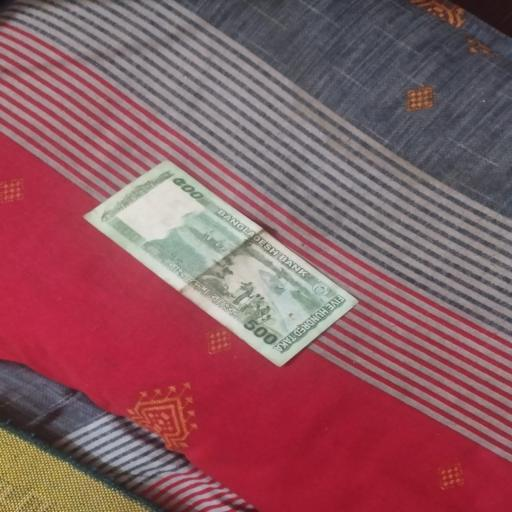500taka: (85, 157, 361, 368)
